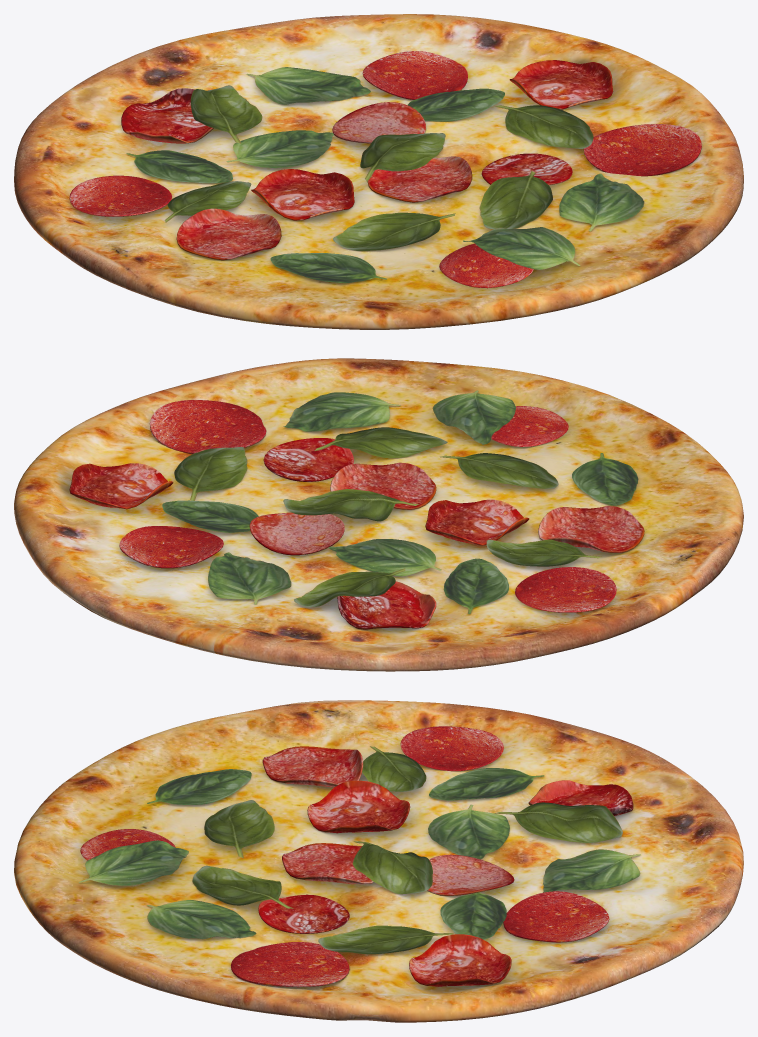
Rendered from PizzaAO_v3.glb.
The picture shows the model from 3 angles, top to bottom: view 1: azimuth 30°, elevation 25°; view 2: azimuth 150°, elevation 25°; view 3: azimuth 270°, elevation 25°; orthographic projection.
Parts seen in each view (by area): view 1: cheesepizza, Pepperoni04.009, Basil03.006; view 2: cheesepizza, Pepperoni04.009, Basil03.006; view 3: cheesepizza, Basil03.006, Pepperoni04.009.
Boxes of the visible parts, x1,y1,x2,y2 form: cheesepizza: (14,14,743,329); Pepperoni04.009: (69,51,701,288); Basil03.006: (126,67,644,283); cheesepizza: (14,358,743,671); Pepperoni04.009: (69,400,644,629); Basil03.006: (162,390,638,613); cheesepizza: (14,700,743,1022); Basil03.006: (79,746,640,954); Pepperoni04.009: (80,726,633,987).
Size of the model in its own units: 0.2372 by 0.00927 by 0.234.
Materials: 1 (1 with a texture image).
